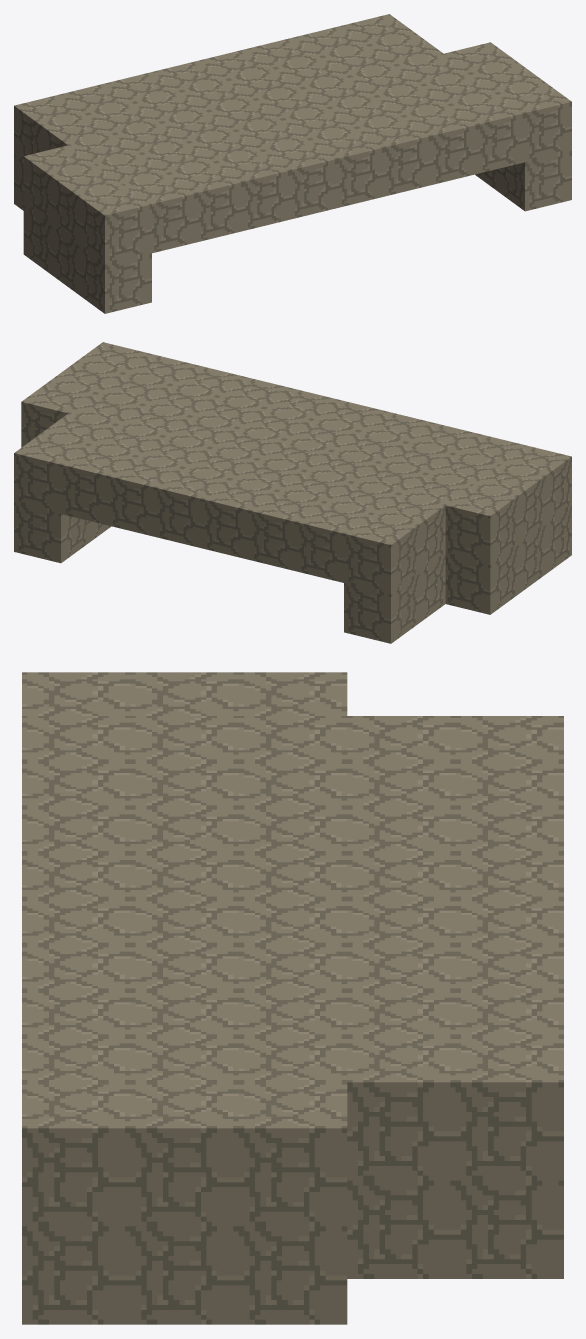
Rendered from UpperOf22_23.vox-0.obj.
The picture shows the model from 3 angles, top to bottom: view 1: azimuth 30°, elevation 25°; view 2: azimuth 150°, elevation 25°; view 3: azimuth 270°, elevation 25°; orthographic projection. The views are drawn at different scales.
Bounding box in the file's own units: 19.9 × 4 × 10.
1 material, 1 textured.
